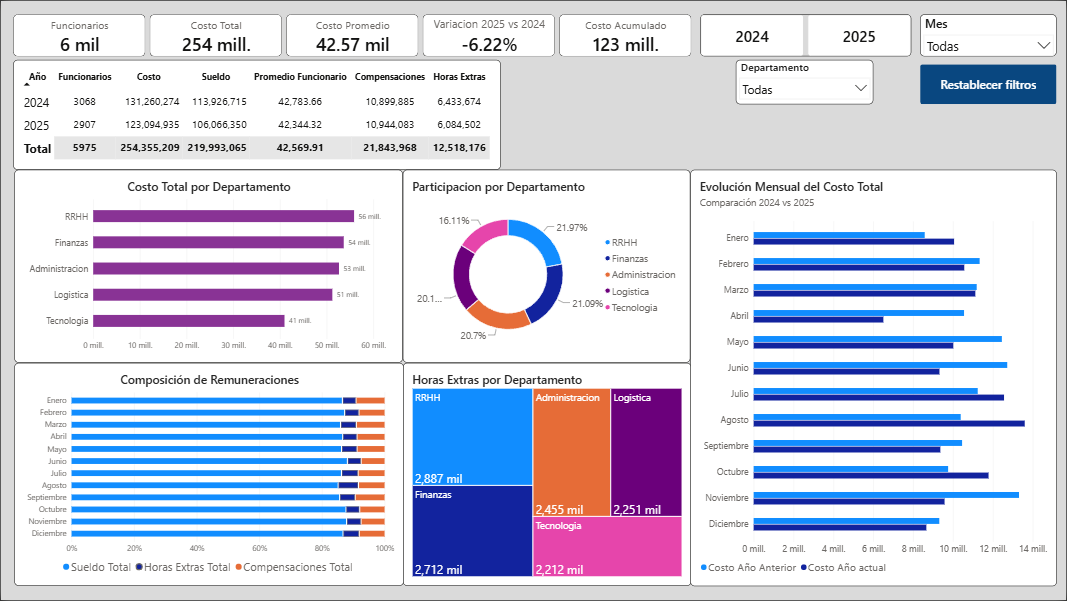

This screenshot's page, from the dashboard's own definition file:
{"tool":"powerbi","page":{"name":"Página 1","canvas":[1920,1080],"ordinal":0},"visuals":[{"type":"cardVisual","fields":{"Data":["Medidas.Total Funcionarios","Medidas.Costo Total","Medidas.Promedio por Funcionario","Medidas.Crecimiento 2025 vs 2024","Medidas.Costo YTD"]},"box":[22,24,1222,76],"z":0},{"type":"pivotTable","fields":{"Rows":["Dim_Calendario.Fecha.Variación.Jerarquía de fechas.Año","Dim_Calendario.Fecha.Variación.Jerarquía de fechas.Mes"],"Values":["Medidas.Total Funcionarios","Medidas.Costo Total","Medidas.Sueldo Total","Medidas.Promedio por Funcionario","Medidas.Compensaciones Total","Medidas.Horas Extras Total"]},"box":[22,106,878,198],"z":1000},{"type":"clusteredBarChart","fields":{"Category":["Dim_Departamento.Departamento"],"Y":["Medidas.Costo Total"]},"box":[24,304,700,348],"z":2000},{"type":"treemap","title":"Horas Extras por Departamento","fields":{"Group":["Dim_Departamento.Departamento"],"Values":["Medidas.Horas Extras Total"]},"box":[724,652,520,402],"z":3000},{"type":"hundredPercentStackedBarChart","title":"Composición de Remuneraciones","fields":{"Category":["Dim_Calendario.Mes"],"Y":["Medidas.Sueldo Total","Medidas.Horas Extras Total","Medidas.Compensaciones Total"]},"box":[24,652,702,402],"z":4000},{"type":"donutChart","title":"Participacion por Departamento ","fields":{"Category":["Dim_Departamento.Departamento"],"Y":["Medidas.Participacion por Departamento"]},"box":[724,304,518,348],"z":5000},{"type":"advancedSlicerVisual","fields":{"Values":["Dim_Calendario.Fecha.Variación.Jerarquía de fechas.Año"]},"box":[1260,24,380,76],"z":6000},{"type":"slicer","fields":{"Values":["Dim_Departamento.Departamento"]},"box":[1324,106,248,80],"z":7000},{"type":"clusteredBarChart","title":"Evolución Mensual del Costo Total","fields":{"Category":["Dim_Calendario.Mes"],"Y":["Medidas.Costo Año Anterior","Medidas.Costo Año actual"]},"box":[1242,304,660,750],"z":8000},{"type":"slicer","fields":{"Values":["Dim_Calendario.Mes"]},"box":[1656,24,246,76],"z":9000},{"type":"actionButton","box":[1656,114,246,72],"z":10000}]}

Visuals, with their boxes in screenshot pixels (x1, y1, x2, y2), scaled from the page's 1920x1080 canvas onto the 1067x601 screenshot:
cardVisual - Medidas.Total Funcionarios x Medidas.Costo Total: 12,13,691,56
pivotTable - Dim_Calendario.Fecha.Variación.Jerarquía de fechas.Año x Dim_Calendario.Fecha.Variación.Jerarquía de fechas.Mes: 12,59,500,169
clusteredBarChart - Dim_Departamento.Departamento x Medidas.Costo Total: 13,169,402,363
"Horas Extras por Departamento" treemap: 402,363,691,587
"Composición de Remuneraciones" hundredPercentStackedBarChart: 13,363,403,587
"Participacion por Departamento " donutChart: 402,169,690,363
advancedSlicerVisual - Dim_Calendario.Fecha.Variación.Jerarquía de fechas.Año: 700,13,911,56
slicer - Dim_Departamento.Departamento: 736,59,874,104
"Evolución Mensual del Costo Total" clusteredBarChart: 690,169,1057,587
slicer - Dim_Calendario.Mes: 920,13,1057,56
actionButton: 920,63,1057,104
